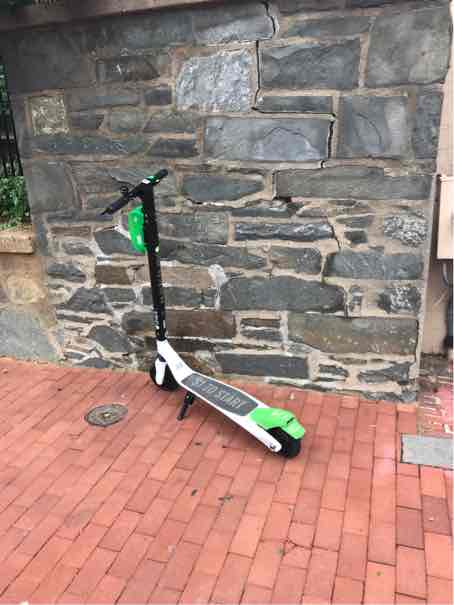scooter: (83, 146, 310, 466)
